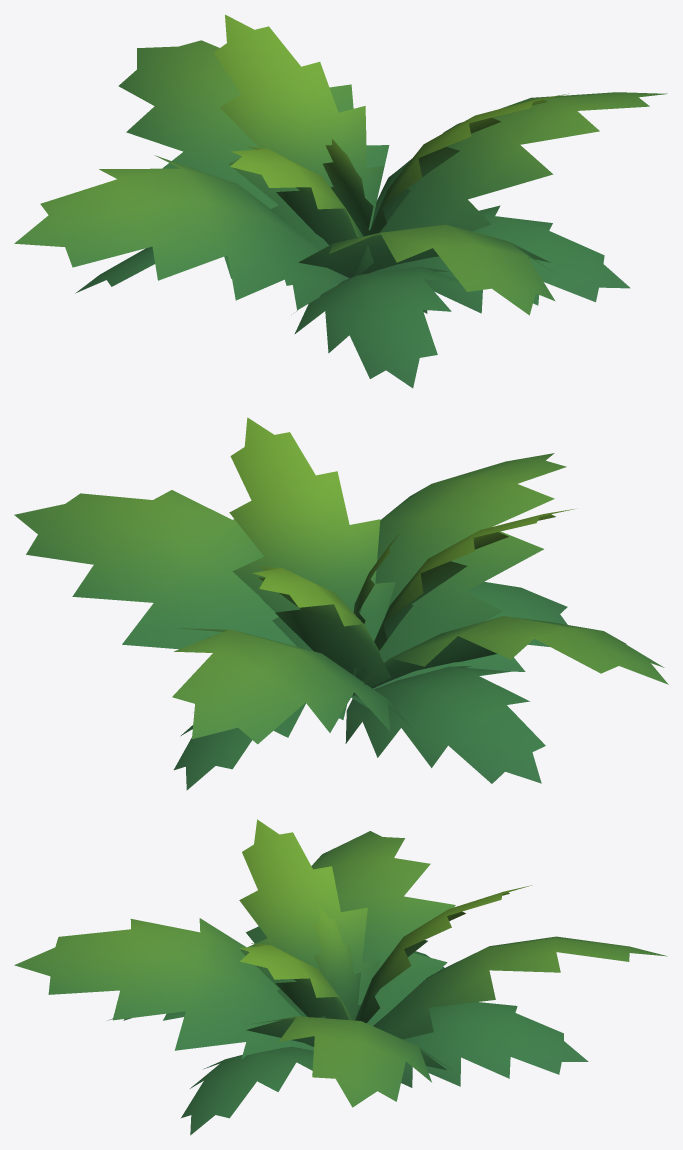
Rendered from plant_06.fbx.
3 renders of one model, top to bottom at view 1: azimuth 30°, elevation 25°; view 2: azimuth 150°, elevation 25°; view 3: azimuth 270°, elevation 25°, orthographic. The views are drawn at different scales.
Visible parts, largest first — view 1: plant_06; view 2: plant_06; view 3: plant_06.
Part boxes in pixels (x1,y1,x2,y2): plant_06: (14,14,667,388); plant_06: (14,417,668,790); plant_06: (14,819,667,1135).
Size of the model in its own units: 8.51 by 2.39 by 8.51.
